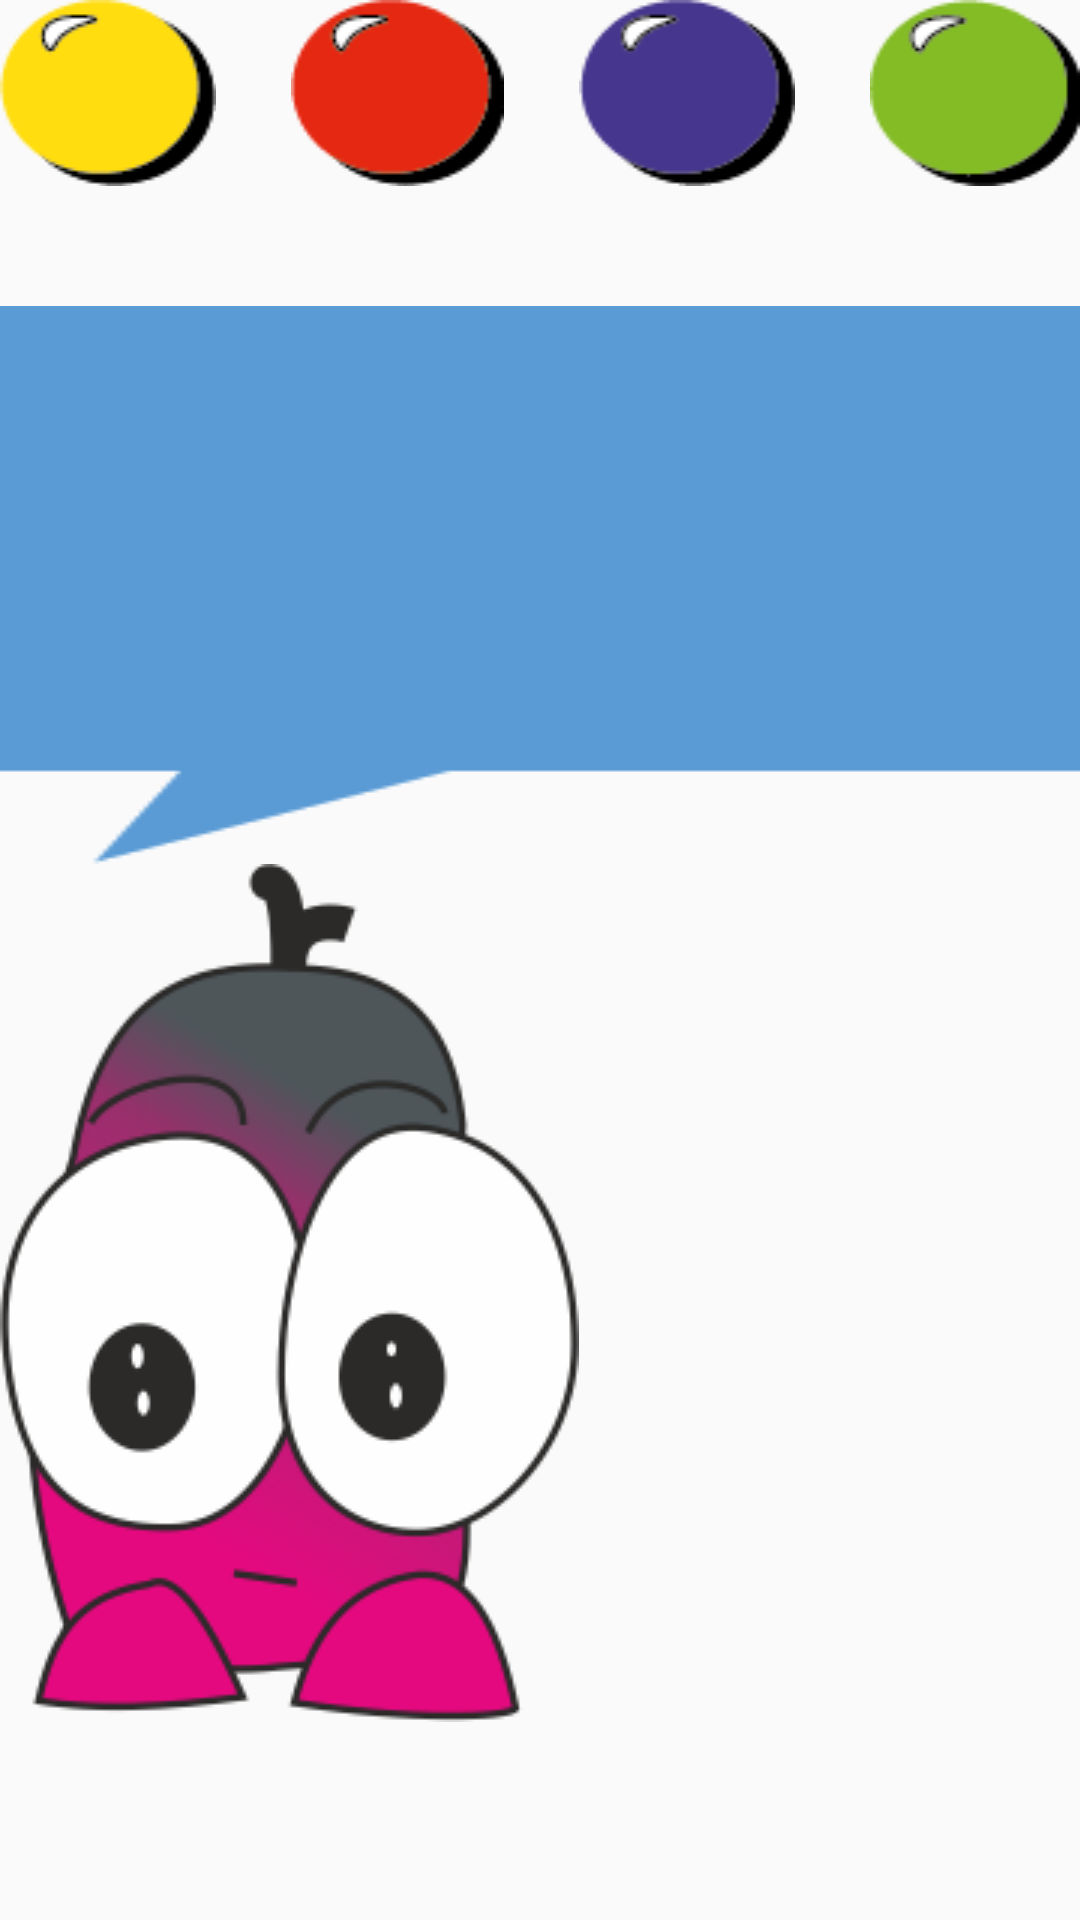

Screen size 1080px×1920px. Icon name, then its center in pixels as [x,y]:
boton: [108,93], [397,93], [687,93], [975,93]
